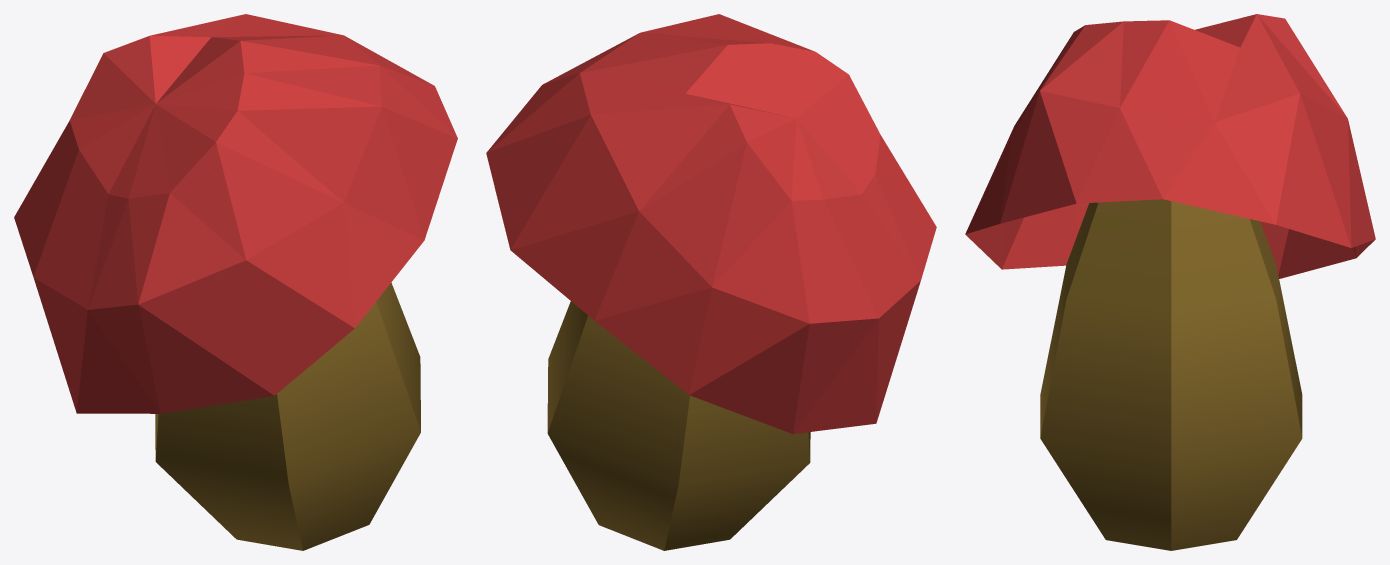
The model's file is Prairie_v1.fbx.
3 renders of one model, left to right at view 1: azimuth 30°, elevation 25°; view 2: azimuth 150°, elevation 25°; view 3: azimuth 270°, elevation 25°, orthographic. The views are drawn at different scales.
Visible parts, largest first — view 1: Sphere, Cylinder; view 2: Sphere, Cylinder; view 3: Cylinder, Sphere.
Boxes of the visible parts, <box> form: Sphere: <box>14,14,457,413</box>; Cylinder: <box>155,282,420,550</box>; Sphere: <box>486,14,936,433</box>; Cylinder: <box>547,301,810,550</box>; Cylinder: <box>1040,199,1302,550</box>; Sphere: <box>965,14,1375,278</box>.
Size of the model in its own units: 35.74 by 45.91 by 34.98.
